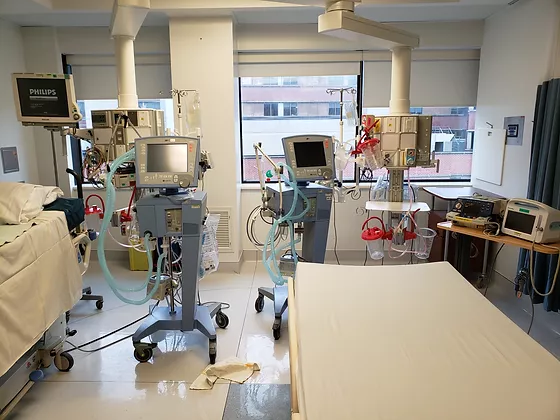bedrail: (66, 235, 93, 270)
bedside_monitor: (1, 65, 88, 143), (142, 142, 196, 183), (506, 205, 539, 242)
bedside_table: (425, 185, 488, 271)
breathing_tube: (98, 149, 176, 326), (262, 164, 305, 300)
electrosurgical_unit: (451, 191, 504, 231)
hospital_bed: (284, 259, 529, 420), (1, 173, 94, 420)
iv_pole: (151, 81, 212, 136), (325, 84, 357, 141)
ventilator: (128, 138, 224, 369), (242, 133, 340, 344)
waste_bin: (127, 233, 152, 270)
